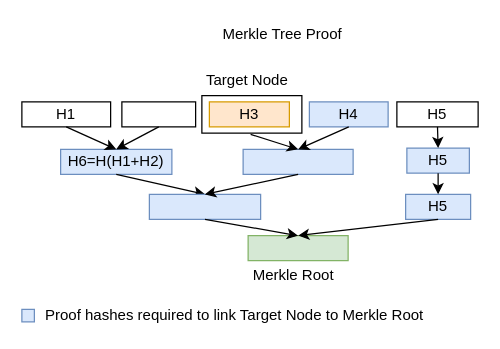
This 500x349 diagram has some shape labels left out. Here are the shapes that lost their labels. From the top down, the centre of each, then its label:
At point 158,114: "H2".
At point 297,161: "H7=H(H3+H4)".
At point 204,206: "H8=H(H6+H7)".
At point 297,247: "R=H(H8+H5)".
